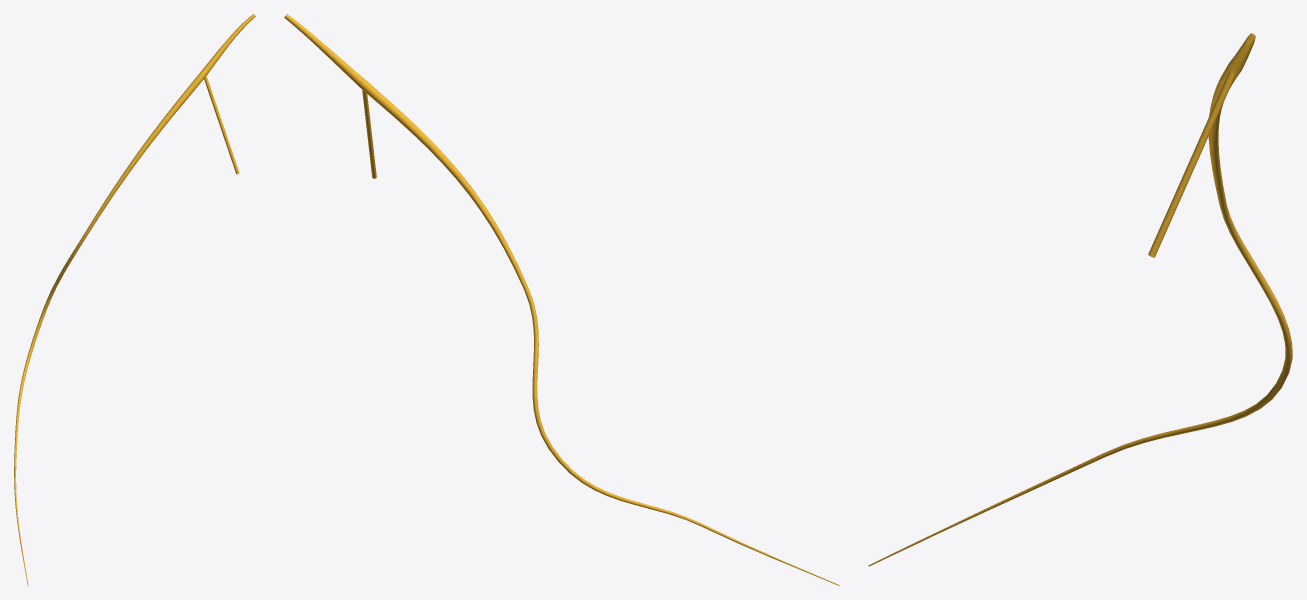
File: nervoso-iliohypogastric-nerve-r.glb
3 views of the same model, side by side, from view 1: azimuth 30°, elevation 25°; view 2: azimuth 150°, elevation 25°; view 3: azimuth 270°, elevation 25° (orthographic). The views are drawn at different scales.
Visible parts, largest first — view 1: Iliohypogastric nerve.r; view 2: Iliohypogastric nerve.r; view 3: Iliohypogastric nerve.r.
Part boxes in pixels (<box>): Iliohypogastric nerve.r: <box>14,14,255,585</box>; Iliohypogastric nerve.r: <box>284,14,839,585</box>; Iliohypogastric nerve.r: <box>868,33,1292,566</box>.
Bounding box in the file's own units: 0.1016 × 0.1272 × 0.0577.
